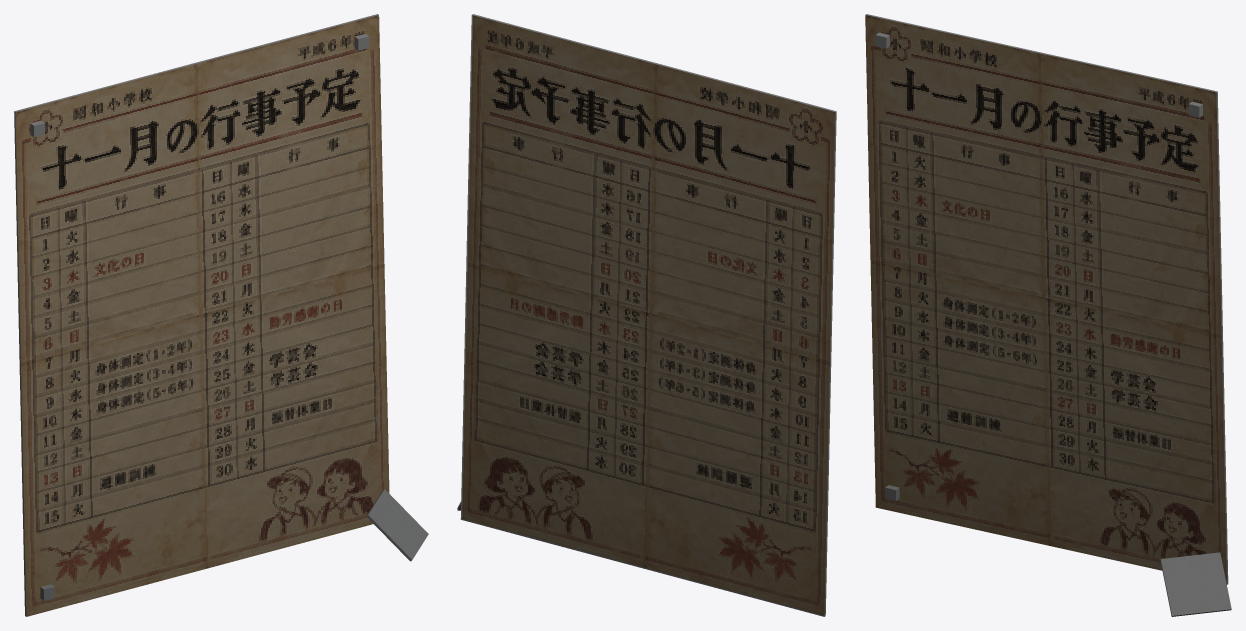
Rendered from prop_poster-gyoji-4.glb.
3 renders of one model, left to right at view 1: azimuth 30°, elevation 25°; view 2: azimuth 150°, elevation 25°; view 3: azimuth 330°, elevation 25°, orthographic. The views are drawn at different scales.
Parts seen in each view (by area): view 1: prop_poster-gyoji-4; view 2: prop_poster-gyoji-4; view 3: prop_poster-gyoji-4.
Part boxes in pixels (bbox=[...]): prop_poster-gyoji-4: bbox=[14, 14, 428, 616]; prop_poster-gyoji-4: bbox=[457, 14, 836, 616]; prop_poster-gyoji-4: bbox=[865, 14, 1231, 616].
Size of the model in its own units: 0.5022 by 0.6253 by 0.0897.
Materials: 2 (2 with a texture image).
